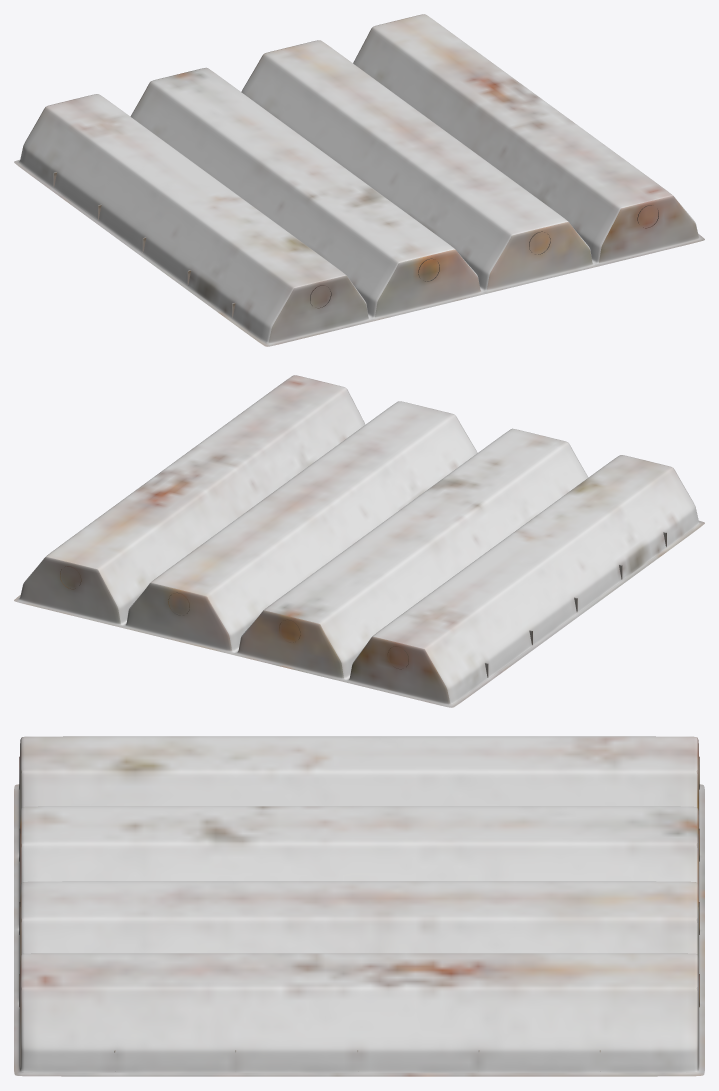
The model's file is SM_Ceiling_Grid05.fbx.
The picture shows the model from 3 angles, top to bottom: view 1: azimuth 30°, elevation 25°; view 2: azimuth 150°, elevation 25°; view 3: azimuth 270°, elevation 25°; orthographic projection. The views are drawn at different scales.
Visible parts, largest first — view 1: SM_Ceiling_Grid05_LOD0; view 2: SM_Ceiling_Grid05_LOD0; view 3: SM_Ceiling_Grid05_LOD0.
Part boxes in pixels (bbox=[...]): SM_Ceiling_Grid05_LOD0: bbox=[14, 14, 704, 346]; SM_Ceiling_Grid05_LOD0: bbox=[14, 375, 704, 707]; SM_Ceiling_Grid05_LOD0: bbox=[14, 736, 704, 1076].
Bounding box in the file's own units: 58.22 × 58.09 × 6.37.
